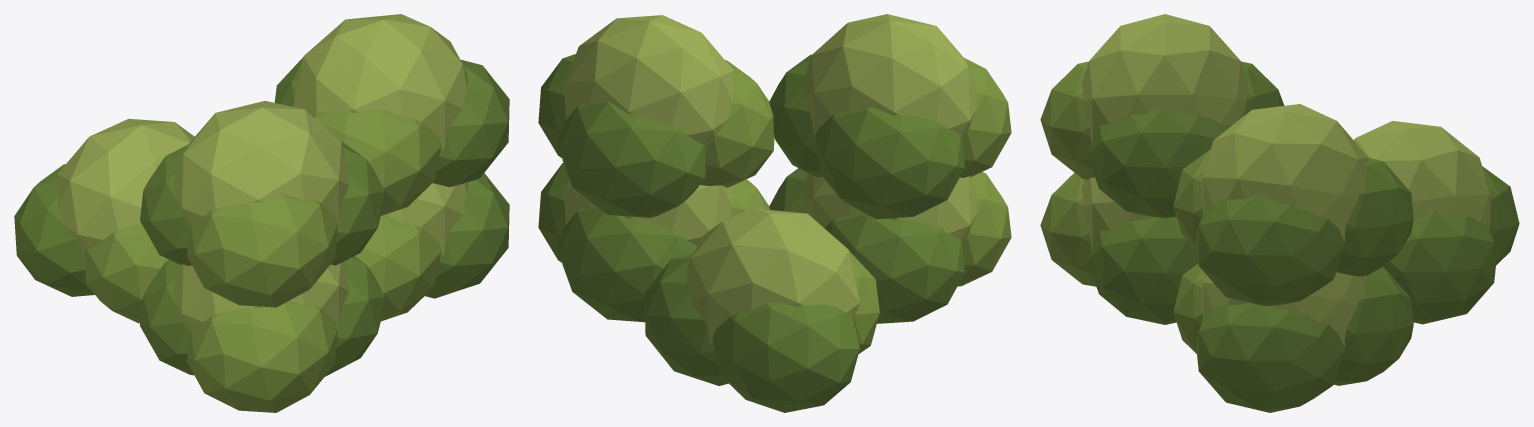
File: pile-lettuce-5.gltf
The picture shows the model from 3 angles, left to right: view 1: azimuth 30°, elevation 25°; view 2: azimuth 150°, elevation 25°; view 3: azimuth 270°, elevation 25°; orthographic projection.
Visible parts, largest first — view 1: pile-lettuce-5; view 2: pile-lettuce-5; view 3: pile-lettuce-5.
Boxes of the visible parts, bbox=[...] form: pile-lettuce-5: bbox=[14, 14, 509, 412]; pile-lettuce-5: bbox=[538, 14, 1011, 412]; pile-lettuce-5: bbox=[1040, 14, 1519, 412].
Size of the model in its own units: 0.5767 by 0.3884 by 0.6175.
